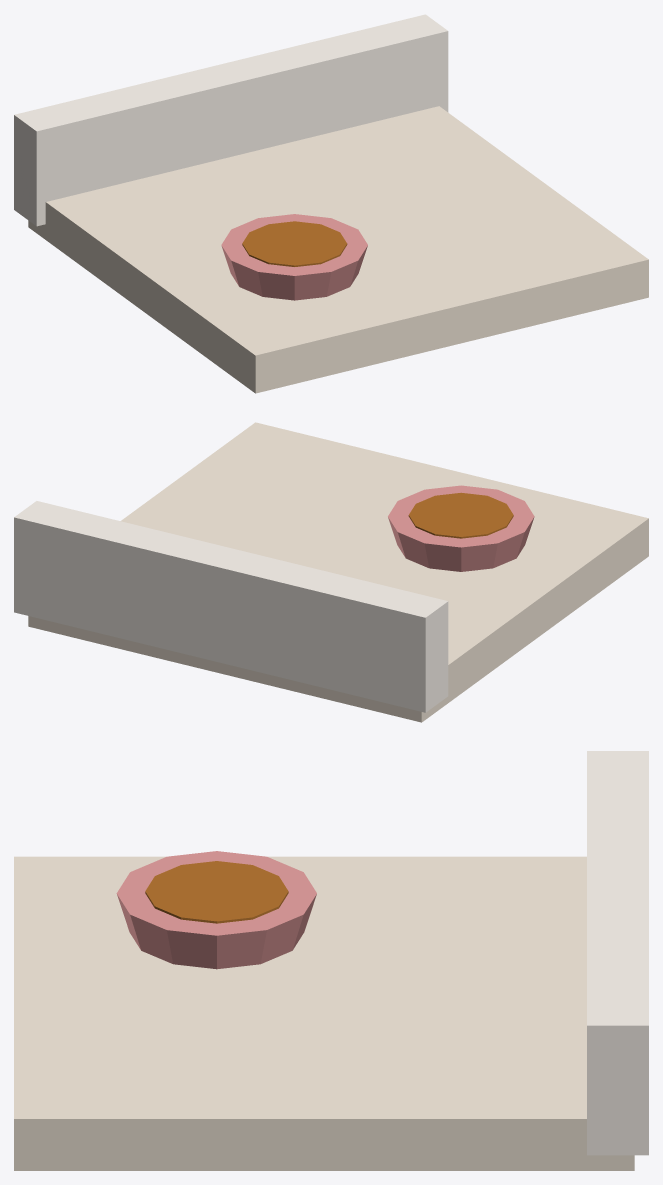
File: CatCafe_Style_GymFloor.glb
3 views of the same model, one above another, from view 1: azimuth 30°, elevation 25°; view 2: azimuth 150°, elevation 25°; view 3: azimuth 270°, elevation 25° (orthographic). The views are drawn at different scales.
Parts seen in each view (by area): view 1: CatCafe_Style_GymFloor_Swatch, CatCafe_Style_GymFloor; view 2: CatCafe_Style_GymFloor, CatCafe_Style_GymFloor_Swatch; view 3: CatCafe_Style_GymFloor_Swatch, CatCafe_Style_GymFloor.
Boxes of the visible parts, left/top/right/bottom form: CatCafe_Style_GymFloor_Swatch: left=28, top=106, right=648, bottom=393; CatCafe_Style_GymFloor: left=14, top=14, right=448, bottom=300; CatCafe_Style_GymFloor: left=14, top=485, right=534, bottom=712; CatCafe_Style_GymFloor_Swatch: left=28, top=422, right=648, bottom=722; CatCafe_Style_GymFloor_Swatch: left=14, top=856, right=634, bottom=1170; CatCafe_Style_GymFloor: left=116, top=751, right=648, bottom=1155.
Size of the model in its own units: 2.72 by 0.7 by 2.66.
Materials: 1 (1 with a texture image).
